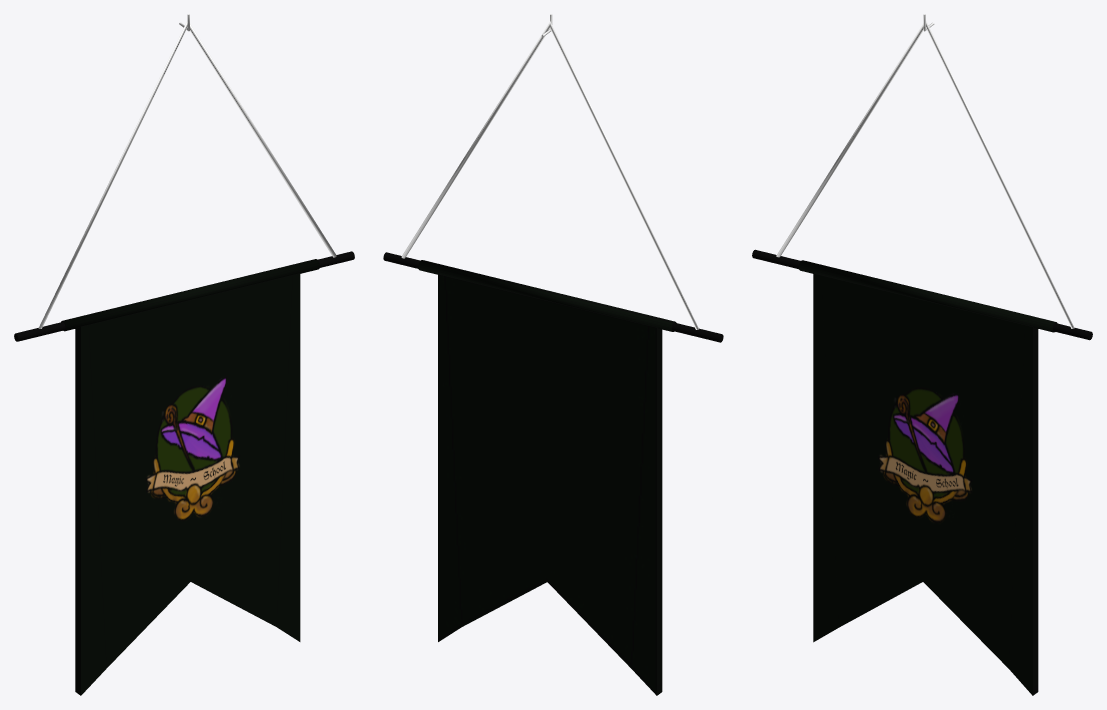
Rendered from Flag.fbx.
The picture shows the model from 3 angles, left to right: view 1: azimuth 30°, elevation 25°; view 2: azimuth 150°, elevation 25°; view 3: azimuth 330°, elevation 25°; orthographic projection.
Parts seen in each view (by area): view 1: Flag; view 2: Flag; view 3: Flag.
Part boxes in pixels (x1,y1,x2,y2): Flag: (14,14,354,695); Flag: (383,14,723,695); Flag: (752,14,1092,695).
Bounding box in the file's own units: 29.81 × 55.31 × 1.6.
